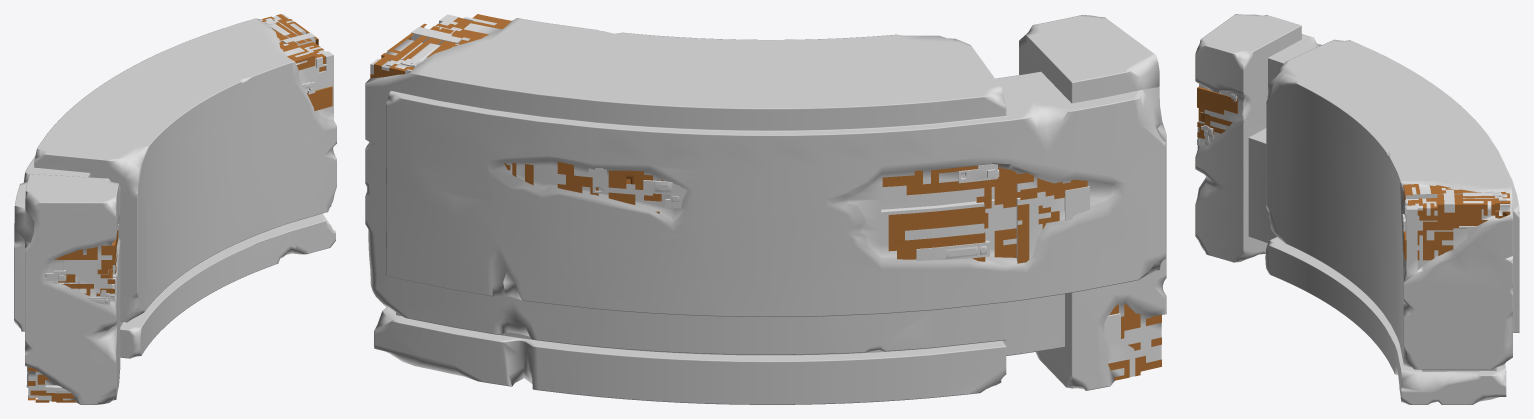
File: VexArchitecture_25.fbx
The picture shows the model from 3 angles, left to right: view 1: azimuth 30°, elevation 25°; view 2: azimuth 150°, elevation 25°; view 3: azimuth 270°, elevation 25°; orthographic projection. The views are drawn at different scales.
Visible parts, largest first — view 1: Mesh_0227.rip.001, Mesh_0194.rip.001, Mesh_0248.rip.001, Mesh_0279.rip.001; view 2: Mesh_0227.rip.001, Mesh_0194.rip.001, Mesh_0248.rip.001, Mesh_0279.rip.001; view 3: Mesh_0227.rip.001, Mesh_0194.rip.001, Mesh_0248.rip.001, Mesh_0279.rip.001.
Part boxes in pixels (x1,y1,x2,y2): Mesh_0227.rip.001: (14,18,336,404); Mesh_0194.rip.001: (28,14,332,402); Mesh_0248.rip.001: (28,14,333,401); Mesh_0279.rip.001: (44,17,327,393); Mesh_0227.rip.001: (365,15,1166,404); Mesh_0194.rip.001: (370,14,1161,380); Mesh_0248.rip.001: (370,14,1161,377); Mesh_0279.rip.001: (386,17,1120,358); Mesh_0227.rip.001: (1195,14,1519,404); Mesh_0194.rip.001: (1197,86,1510,260); Mesh_0248.rip.001: (1197,84,1510,276); Mesh_0279.rip.001: (1197,90,1507,237).
Bounding box in the file's own units: 199 × 97.76 × 137.
